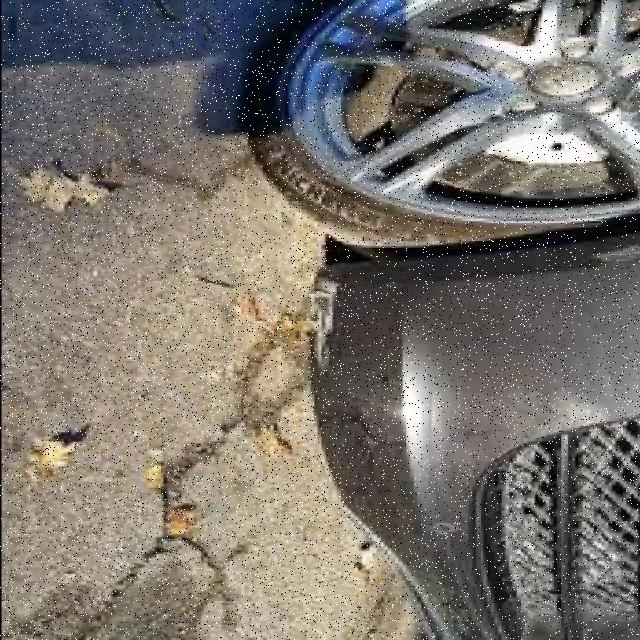damage: (304, 255, 420, 525)
